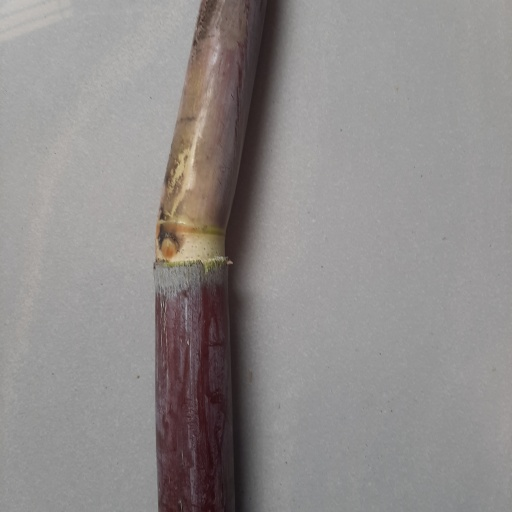Bud: (158, 233, 180, 259)
